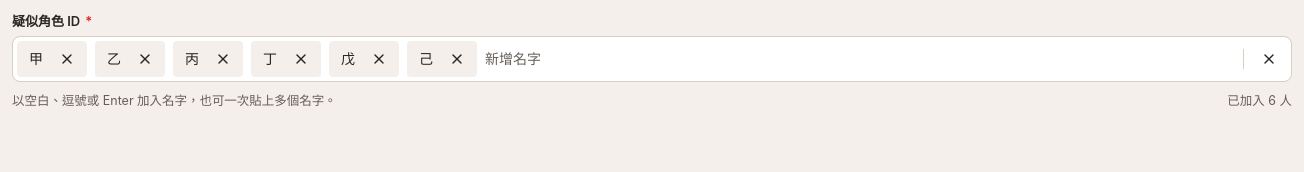
Test: suspect name tags › splits mixed pasted separators, removes duplicates, and supports removal and clear
Expected: the message reads "已加入 6 人", x1=1227 y1=92 x2=1292 y2=110
Click the button named "刪除 丙".
click(223, 58)  # box x1=207 y1=42 x2=239 y2=74
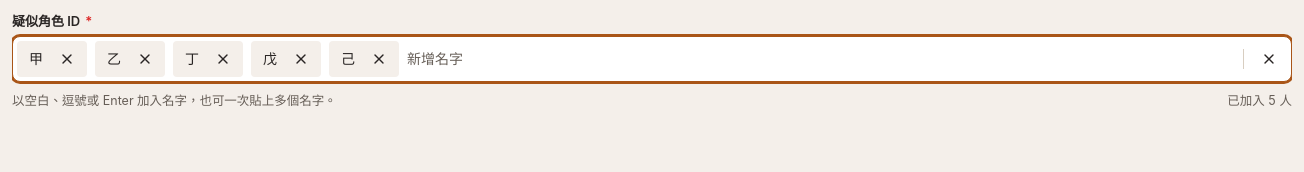
Result: the message reads "已加入 5 人" at x1=1227 y1=92 x2=1292 y2=110
Type "未完成" into the field labelled "疑似角色 ID".
click(821, 58); type("未完成")  # box x1=407 y1=40 x2=1235 y2=76
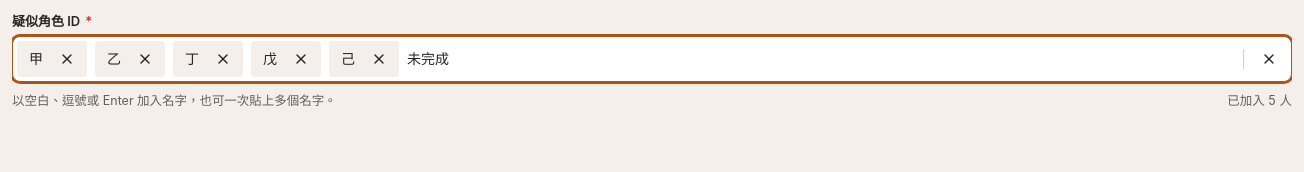
Click the button named "全部刪除".
click(1269, 58)  # box x1=1251 y1=40 x2=1287 y2=76
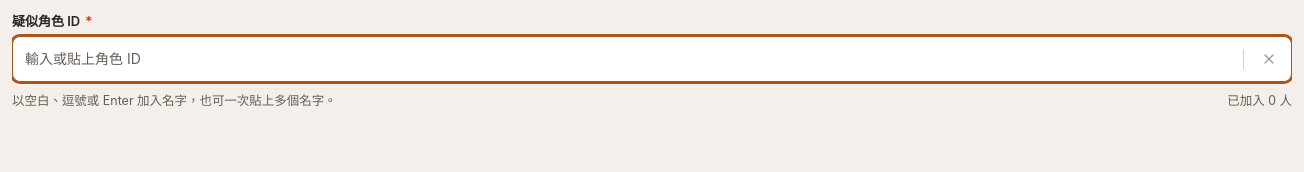
Result: the field labelled "疑似角色 ID" is empty at x1=17 y1=40 x2=1235 y2=76
Result: the message reads "已加入 0 人" at x1=1227 y1=92 x2=1292 y2=110
